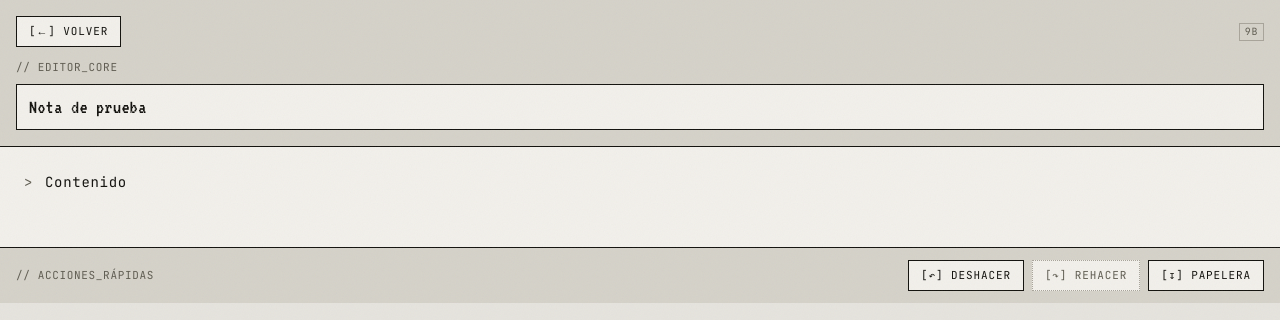
NoteEditor · guardado › informa el fallo en vez de tragárselo
Replace the text in the text box named "contenido de la nota" with "algo" at (644, 194), box [24,171,1264,216]
Wait 3000 ms
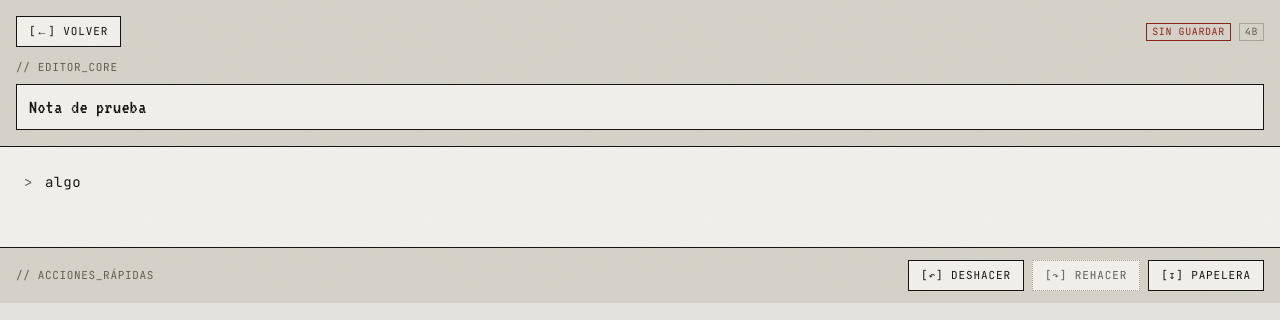
Expected: the text "Sin guardar" is shown, [1146,22,1231,40]
